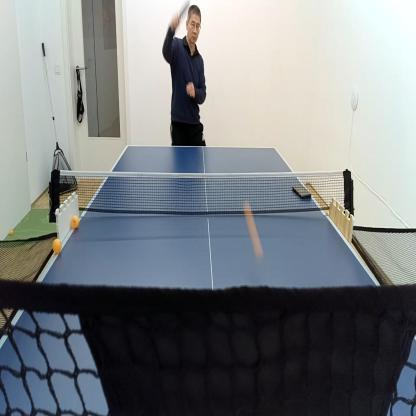Ball: (244, 203, 262, 258), (53, 238, 62, 254), (71, 215, 78, 228), (8, 229, 14, 234)
